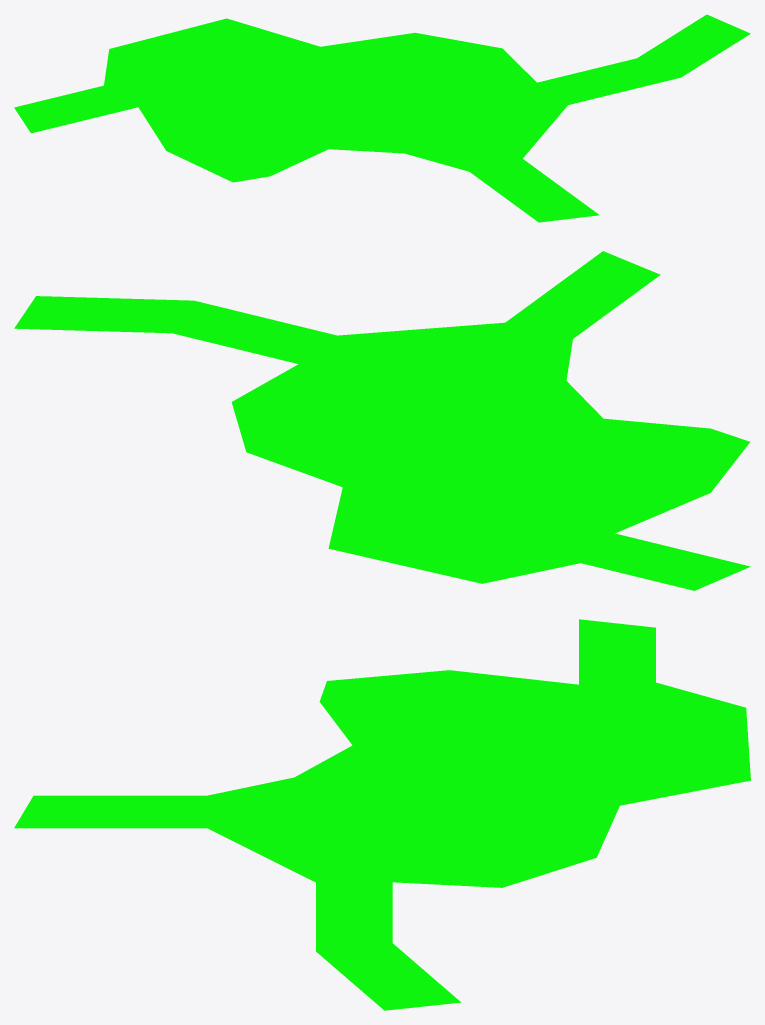
Rendered from s01a_tb3-floor.glb.
The picture shows the model from 3 angles, top to bottom: view 1: azimuth 30°, elevation 25°; view 2: azimuth 150°, elevation 25°; view 3: azimuth 270°, elevation 25°; orthographic projection. The views are drawn at different scales.
Parts seen in each view (by area): view 1: collision_floor-colonly; view 2: collision_floor-colonly; view 3: collision_floor-colonly.
Boxes of the visible parts, x1=… form: collision_floor-colonly: x1=14, y1=14, x2=750, y2=222; collision_floor-colonly: x1=14, y1=251, x2=750, y2=590; collision_floor-colonly: x1=14, y1=619, x2=750, y2=1010.
Size of the model in its own units: 72.19 by 0 by 57.44.
